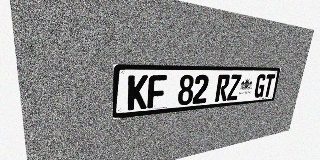2: (192, 75, 209, 104)
8: (177, 75, 195, 106)
F: (147, 75, 167, 109)
G: (253, 74, 267, 98)
K: (127, 75, 148, 110)
R: (215, 74, 230, 102)
T: (262, 74, 275, 97)
Z: (227, 74, 242, 101)
